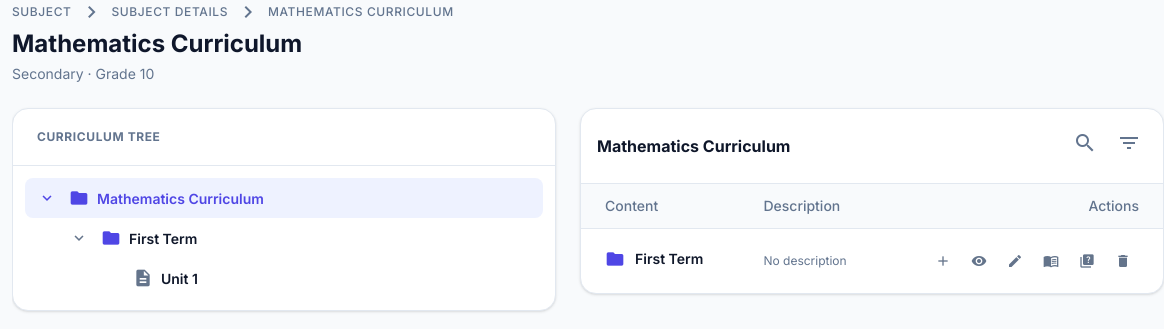
Scenario: TenantSubjectCurriculumComponent › collapses and expands tree nodes
The image size is (1164, 329).
Click the 2nd button with class "curriculum-tree-toggle" at (79, 238), box x1=65 y1=224 x2=93 y2=252
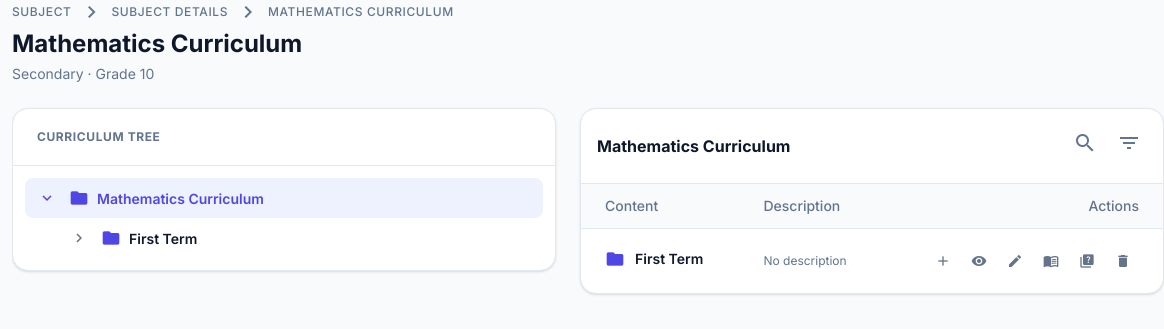
Expected: the text "Unit 1" is gone
Click the 2nd button with class "curriculum-tree-toggle" at (79, 238), box x1=65 y1=224 x2=93 y2=252
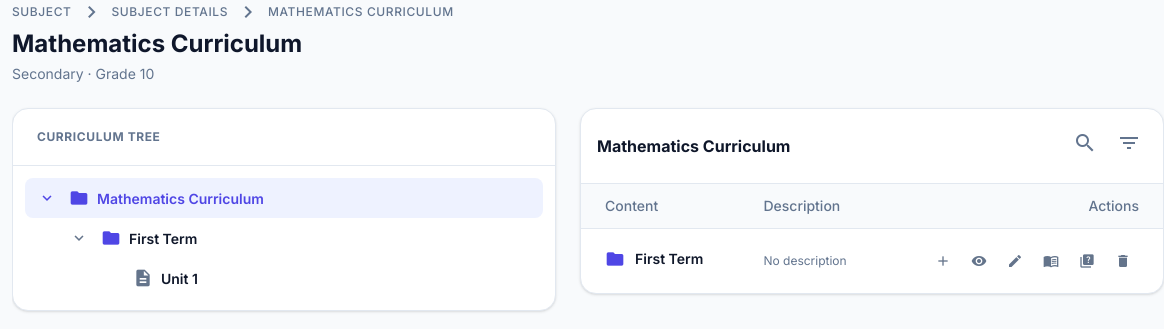
Expected: the text "Unit 1" is shown, x1=161 y1=268 x2=469 y2=288
